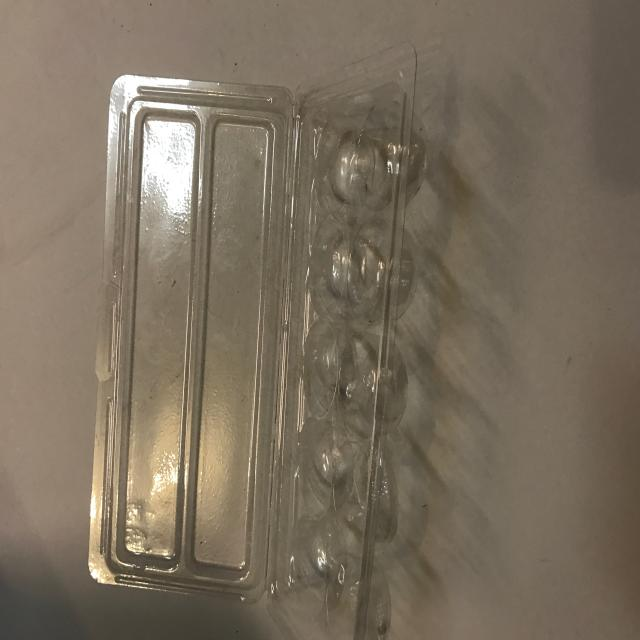plastic: (88, 41, 426, 640)
